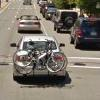Bicycle: (14, 42, 67, 77)
